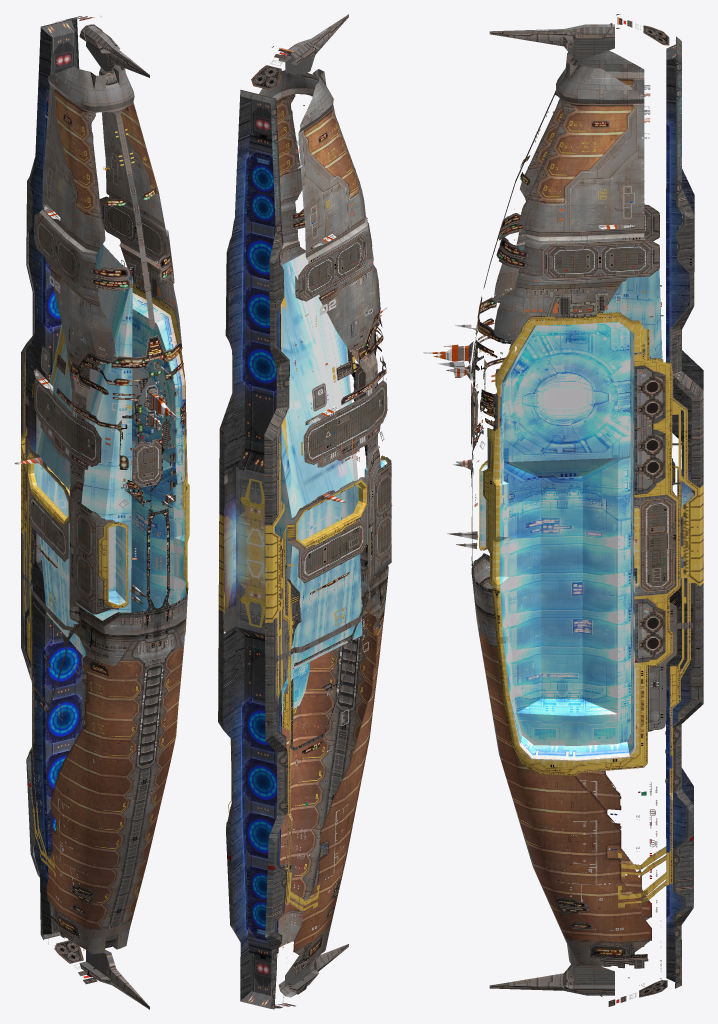
3 renders of one model, left to right at view 1: azimuth 30°, elevation 25°; view 2: azimuth 150°, elevation 25°; view 3: azimuth 270°, elevation 25°, orthographic. The views are drawn at different scales.
Parts seen in each view (by area): view 1: side_upper, side_lower, engine1, leftover, badge1, leftover_bay; view 2: side_upper, engine1, side_lower, leftover, badge1; view 3: side_lower, side_upper, engine1, leftover.
Boxes of the visible parts, bbox=[...] form: side_upper: bbox=[14, 16, 187, 1009]; side_lower: bbox=[21, 24, 189, 950]; engine1: bbox=[24, 20, 82, 934]; leftover: bbox=[34, 244, 189, 656]; badge1: bbox=[54, 289, 74, 351]; leftover_bay: bbox=[108, 526, 115, 590]; side_upper: bbox=[223, 14, 391, 1008]; engine1: bbox=[223, 96, 281, 1008]; side_lower: bbox=[218, 15, 392, 1009]; leftover: bbox=[236, 253, 387, 672]; badge1: bbox=[327, 295, 357, 345]; side_lower: bbox=[445, 24, 703, 988]; side_upper: bbox=[423, 14, 703, 1006]; engine1: bbox=[666, 44, 703, 981]; leftover: bbox=[473, 245, 681, 596].
Bounding box in the file's own units: 299 × 2468 × 642.
